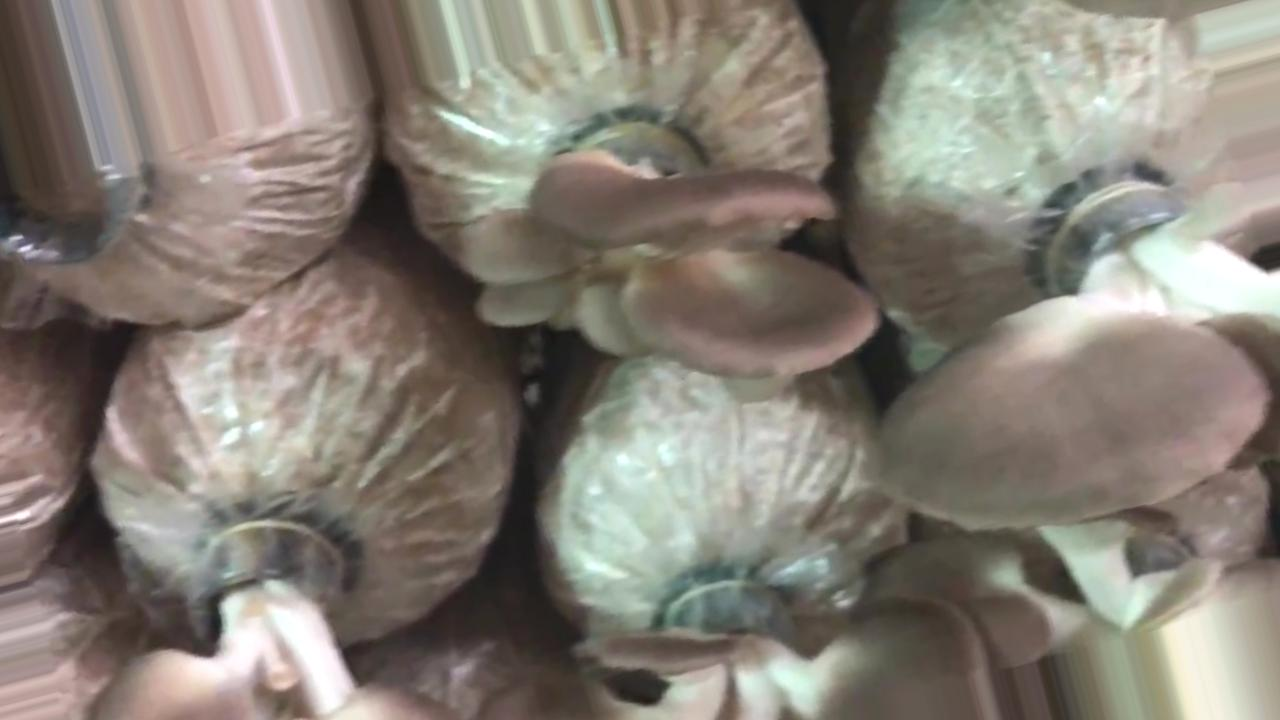nam: (867, 152, 1280, 520), (470, 105, 874, 388), (482, 568, 1048, 720), (80, 514, 459, 720)
